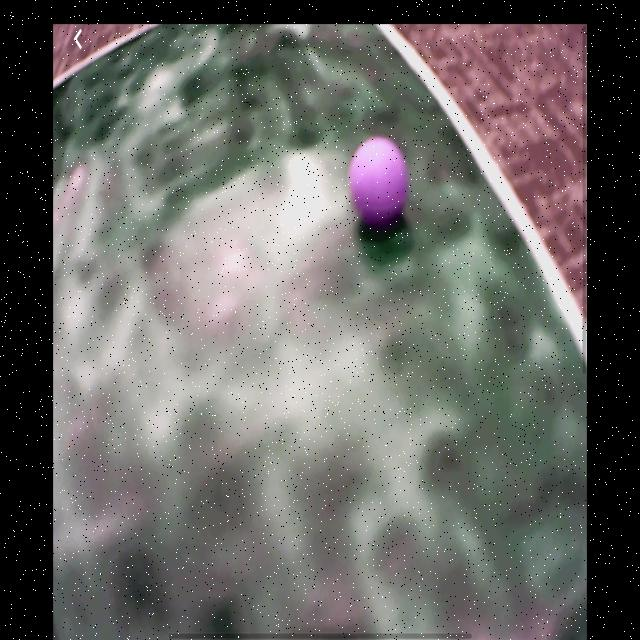ball: (352, 138, 407, 221)
